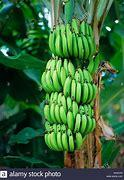banana: (37, 22, 102, 147), (37, 54, 100, 100), (46, 20, 106, 58), (39, 121, 99, 152), (46, 94, 97, 129)
